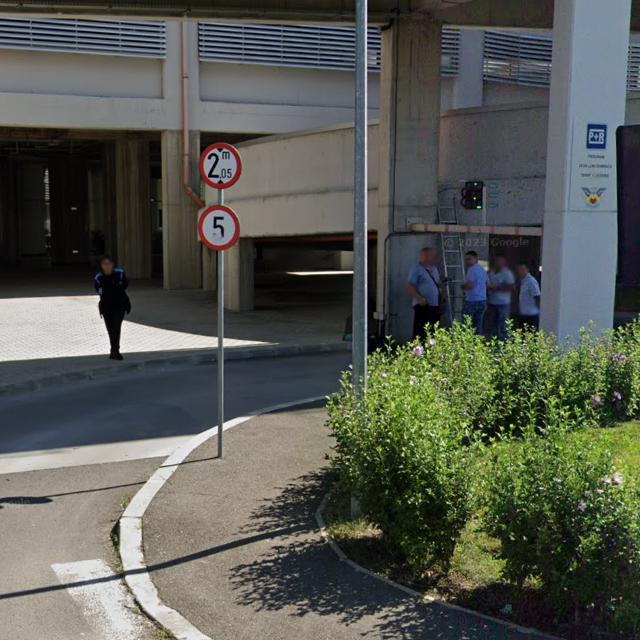forb_speed_over_5: (198, 204, 240, 250)
